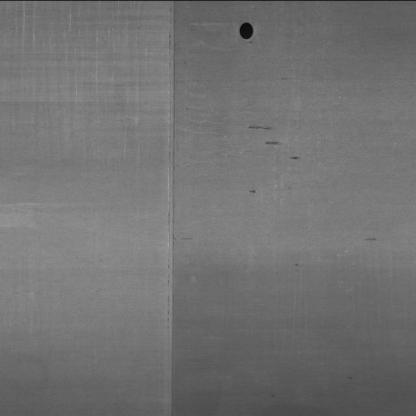punching_hole: (231, 16, 260, 43)
welding_line: (161, 0, 185, 414)
